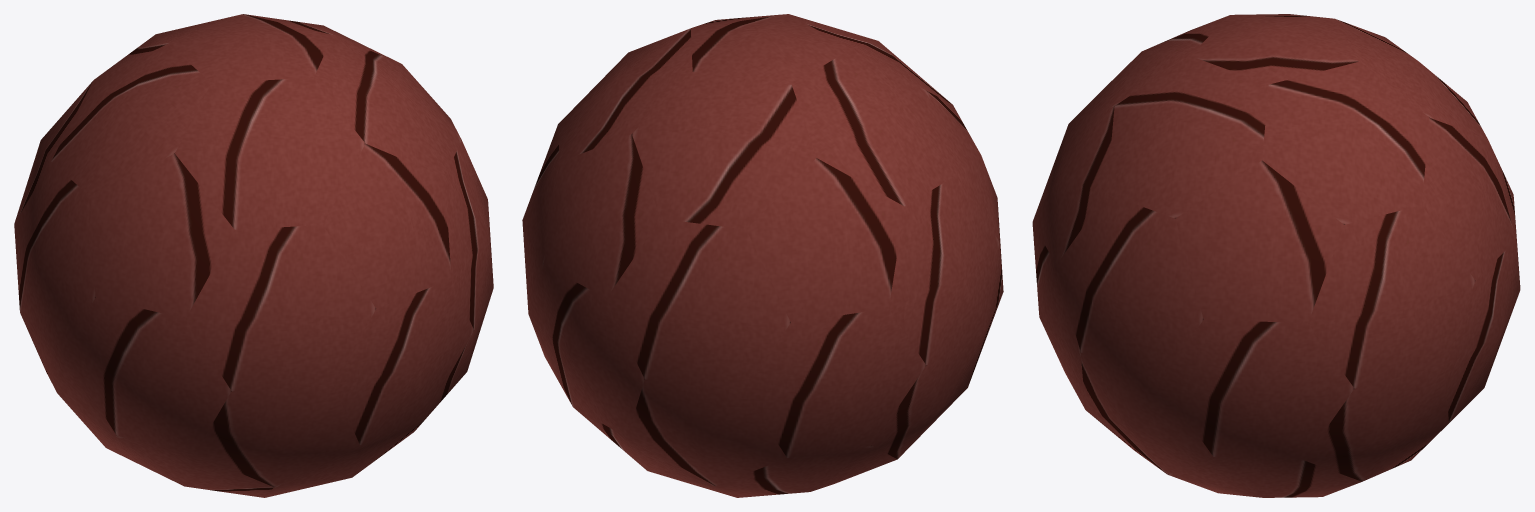
3 renders of one model, left to right at view 1: azimuth 30°, elevation 25°; view 2: azimuth 150°, elevation 25°; view 3: azimuth 270°, elevation 25°, orthographic.
Visible parts, largest first — view 1: shield_B; view 2: shield_B; view 3: shield_B.
Part boxes in pixels (left/top/right/bottom): shield_B: left=14, top=14, right=493, bottom=497; shield_B: left=522, top=14, right=1003, bottom=497; shield_B: left=1032, top=14, right=1520, bottom=497.
Bounding box in the file's own units: 2.3 × 2.34 × 2.31.
1 material, 1 textured.
